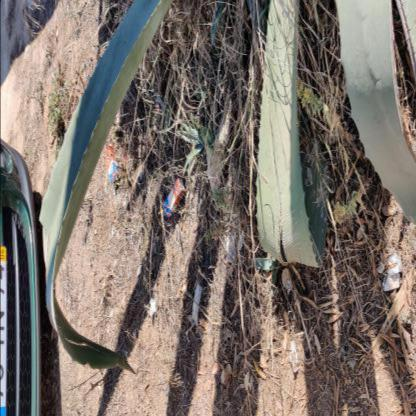Carton: (162, 177, 185, 219), (104, 143, 120, 189)
Plastic bag - wrapper: (382, 273, 400, 291), (289, 340, 298, 373)
Straw: (158, 208, 164, 216)
Unlabeled litter: (192, 285, 202, 325), (386, 255, 402, 276), (121, 149, 129, 178), (150, 299, 156, 317)
